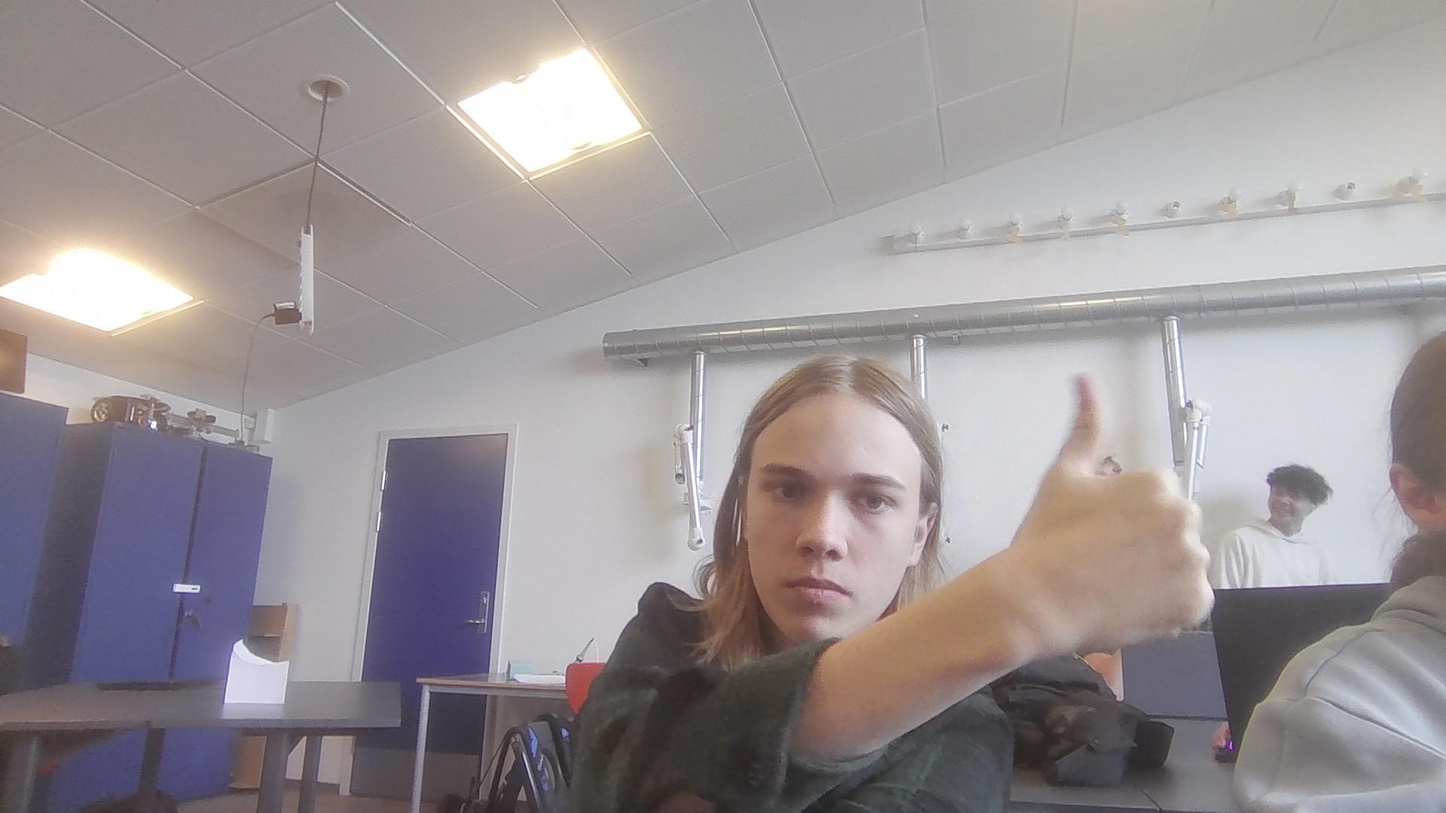thumbs up: (1005, 368, 1239, 660)
